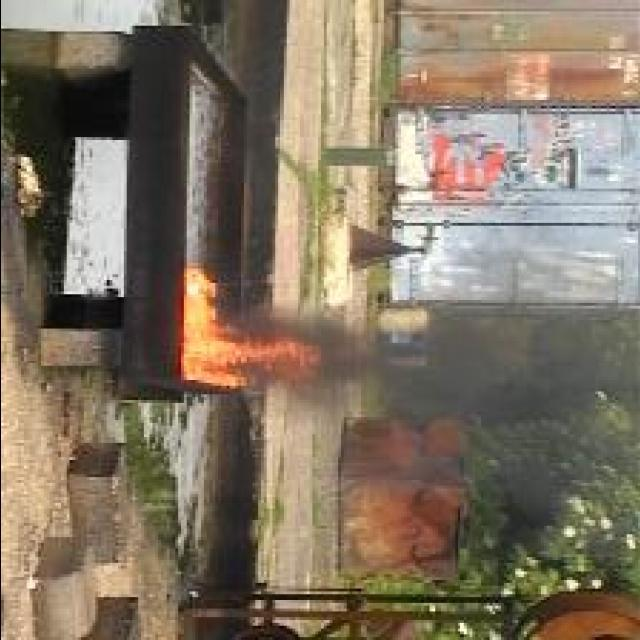Fire: (182, 268, 318, 388)
